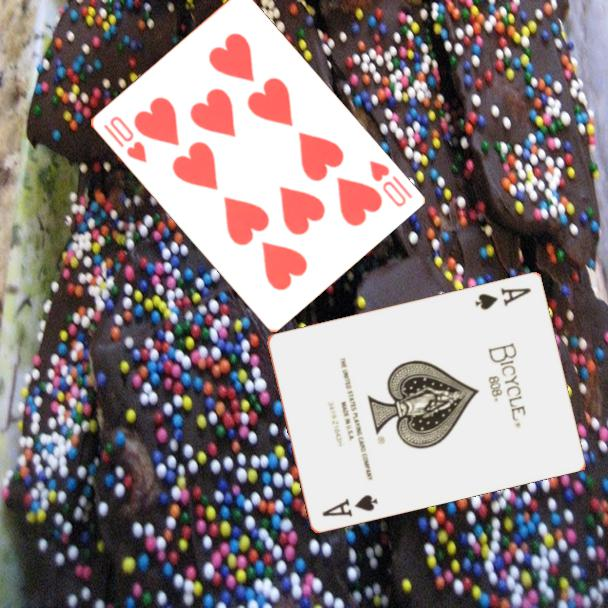h10: (99, 113, 149, 166), (365, 157, 415, 210)
s01: (471, 284, 534, 312), (319, 491, 381, 519)
